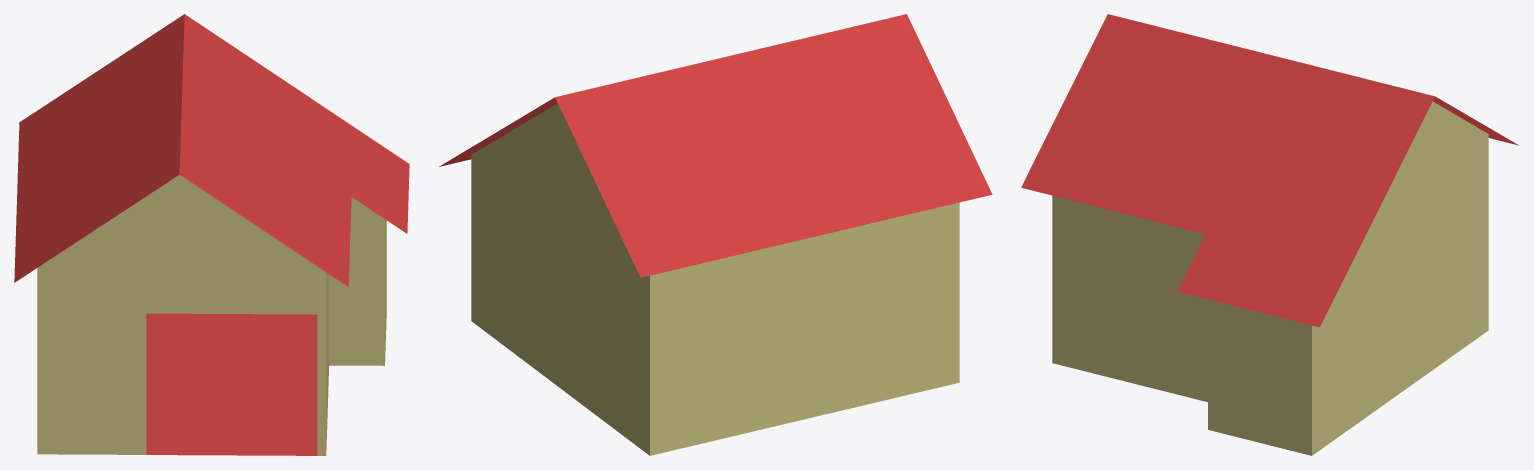
3 renders of one model, left to right at view 1: azimuth 30°, elevation 25°; view 2: azimuth 150°, elevation 25°; view 3: azimuth 270°, elevation 25°, orthographic. The views are drawn at different scales.
Size of the model in its own units: 17.49 by 16.43 by 10.57.
